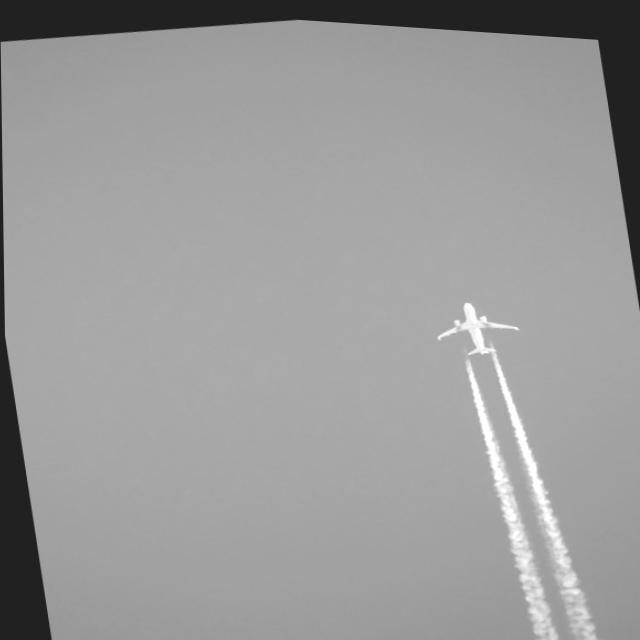aeroplane: (424, 283, 527, 363)
